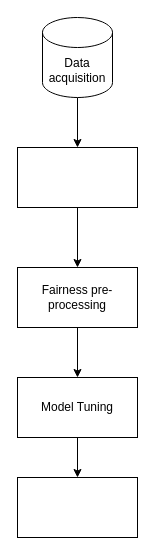
This 155x555 diagram has some shape labels left out. Here are the shapes that lost their labels. From the top down, the box of each, then its label:
(16, 146, 138, 208): Data pre-processing
(16, 476, 138, 538): Performance Evaluation
